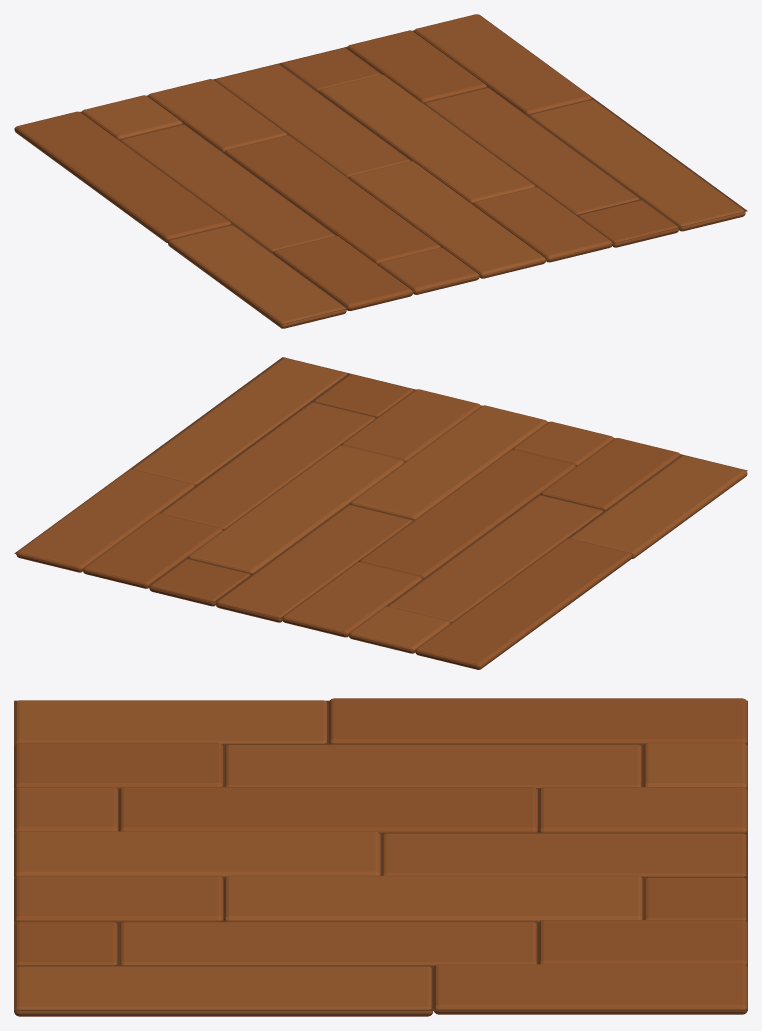
Rendered from Floor_1.fbx.
3 renders of one model, top to bottom at view 1: azimuth 30°, elevation 25°; view 2: azimuth 150°, elevation 25°; view 3: azimuth 270°, elevation 25°, orthographic. The views are drawn at different scales.
Visible parts, largest first — view 1: Cube.031; view 2: Cube.031; view 3: Cube.031.
Part boxes in pixels (x1=…): Cube.031: x1=14, y1=14, x2=747, y2=328; Cube.031: x1=14, y1=357, x2=747, y2=669; Cube.031: x1=14, y1=698, x2=747, y2=1016.
Bounding box in the file's own units: 7.01 × 0.12 × 7.
